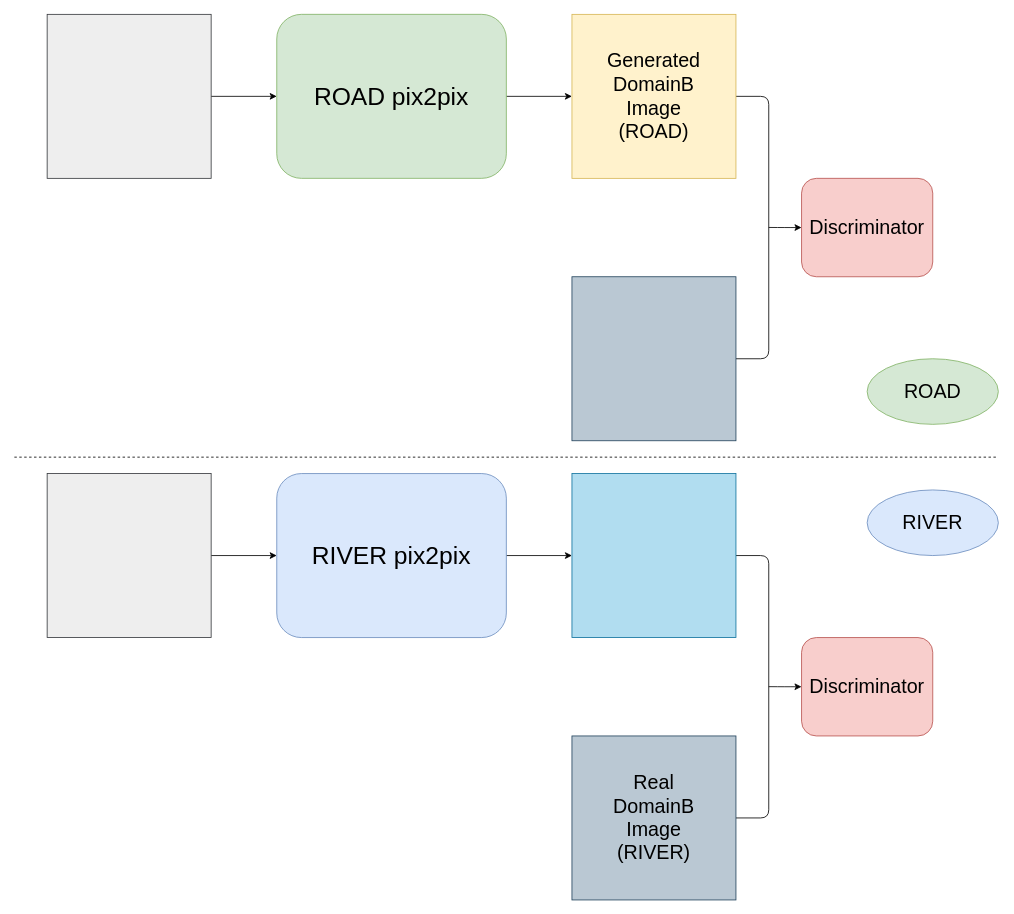
The diagram is 1014 pixels wide and 914 high, and some of its shapes have lost their labels. Here are the shapes that lost their labels. From the top down, the centre of each, then its label:
pixel 128 96: DomainA Image (ROAD)
pixel 653 358: Real DomainB Image (ROAD)
pixel 128 555: DomainA Image (RIVER)
pixel 653 555: Generated DomainB Image (RIVER)
